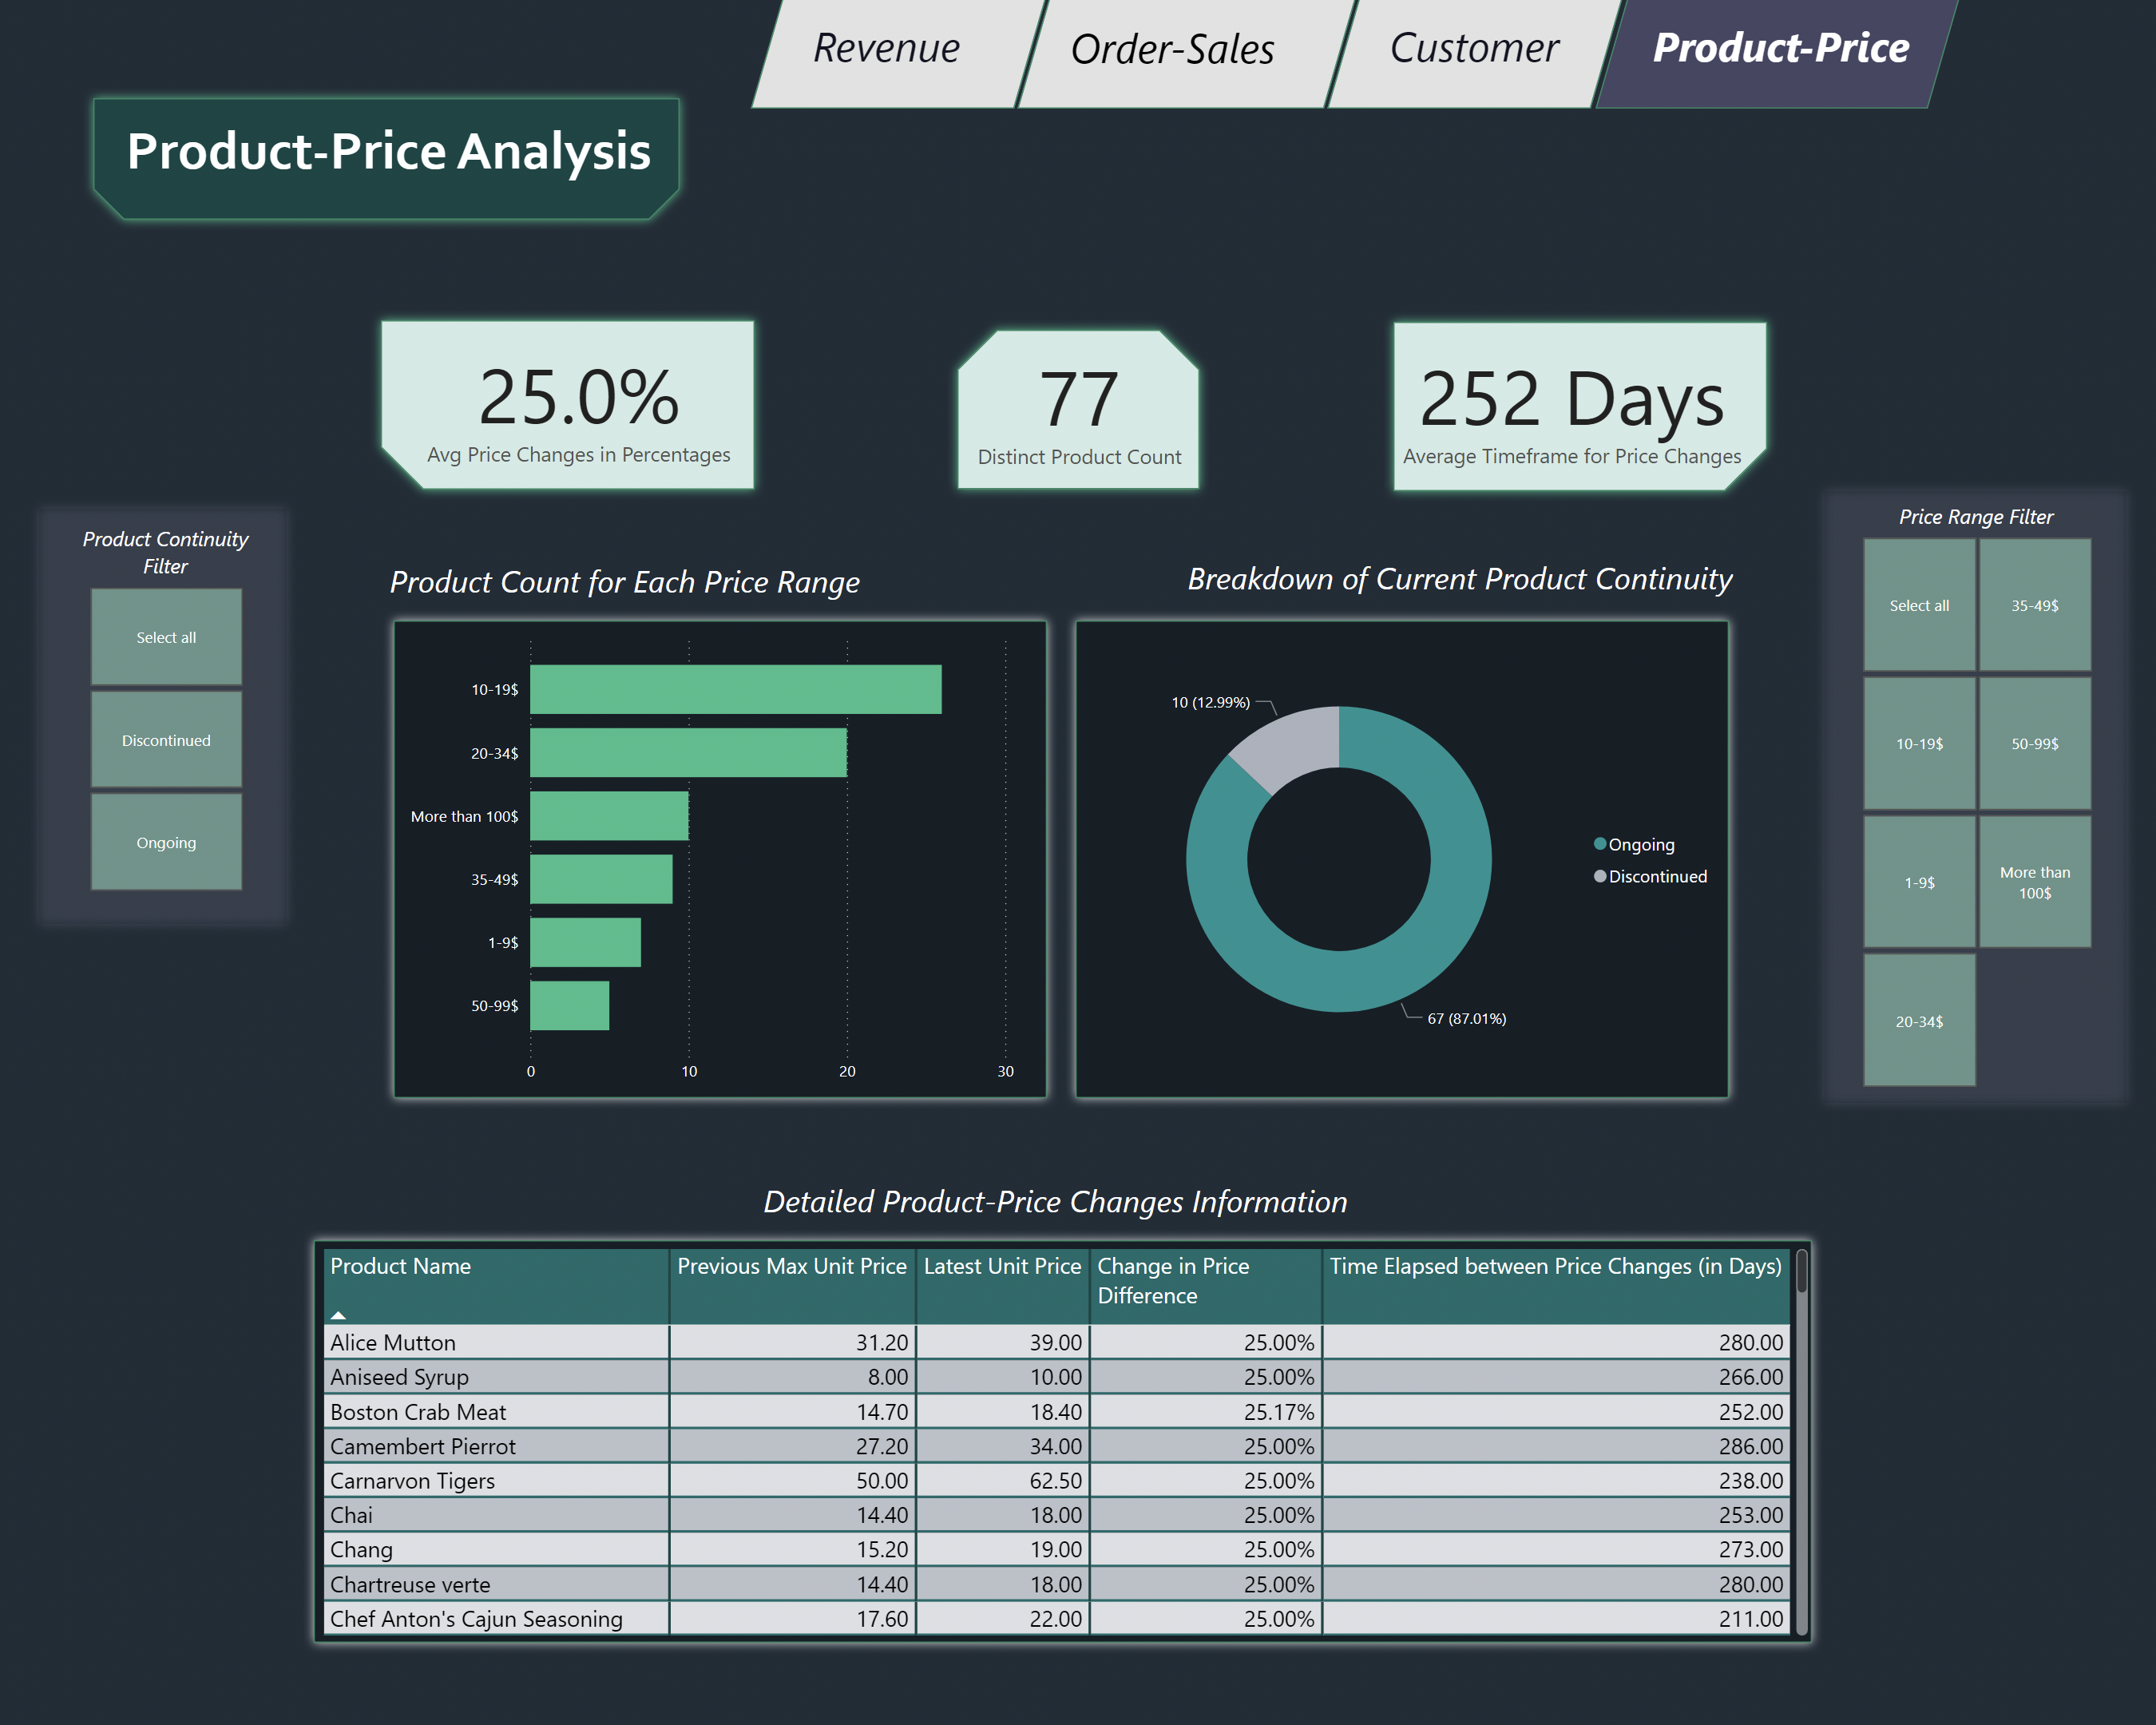

The page's visual inventory and layout, read from the dashboard file:
{"tool":"powerbi","page":{"name":"4) Product-Price Analysis","canvas":[1700,1450],"ordinal":3},"visuals":[{"type":"shape","box":[248.5,963.8,1188.8,331.2],"z":0},{"type":"shape","box":[311,478.8,527.5,390],"z":1000},{"type":"shape","box":[1431.2,377.5,252.5,495],"z":2000},{"type":"shape","box":[33.7,391.5,210,341.2],"z":3000},{"type":"shape","box":[76.2,69.7,475,111.2],"z":4000},{"type":"textbox","box":[105,87.2,435,68.8],"z":5000},{"type":"shape","box":[807.5,0,265,86.2],"z":6000},{"type":"textbox","box":[843.8,11.2,192.5,65],"z":7000},{"type":"shape","box":[1050,0,231.2,86.2],"z":8000},{"type":"textbox","box":[1093.3,10,155,65],"z":9000},{"type":"shape","box":[1260,0,285,86.2],"z":10000},{"type":"textbox","box":[1300,10,220,65],"z":11000},{"type":"shape","box":[598.8,0,231.2,86.2],"z":12000},{"type":"textbox","box":[642.5,10,133.8,63.8],"z":13000},{"type":"slicer","title":"Price Range Filter","fields":{"Values":["PP Current Price Data.price_range"]},"box":[1443.8,393.8,228.8,465],"z":14000},{"type":"slicer","title":"Product Continuity Filter","fields":{"Values":["PP Current Price Data.product_discontinued_or_not"]},"box":[56.2,411.5,168.8,293.8],"z":15000},{"type":"shape","box":[1093.8,245,308.8,148.8],"z":16000},{"type":"shape","box":[752.3,251.1,205.7,140.8],"z":17000},{"type":"shape","box":[301.2,243.8,308.8,148.8],"z":18000},{"type":"card","fields":{"Values":["DAX Measures.Price Range Counter"]},"box":[753.8,245,205,148.8],"z":19000},{"type":"card","fields":{"Values":["DAX Measures.Total Average Price Difference"]},"box":[323.8,243.8,281.2,147.5],"z":20000},{"type":"card","fields":{"Values":["DAX Measures.Total Average Timeframe"]},"box":[1093.8,245,296.2,147.5],"z":21000},{"type":"clusteredBarChart","fields":{"Y":["DAX Measures.Price Range Counter"],"Category":["PP Current Price Data.price_range"]},"box":[321,488.8,488.8,368.8],"z":22000},{"type":"textbox","box":[311,433.8,463.8,45],"z":23000},{"type":"shape","box":[844.7,478.8,527.5,390],"z":24000},{"type":"donutChart","fields":{"Category":["PP Current Price Data.product_discontinued_or_not"],"Y":["CountNonNull(PP Current Price Data.product_discontinued_or_not)"]},"box":[856.2,491.2,506.2,365],"z":25000},{"type":"textbox","box":[908.8,431.2,463.8,47.5],"z":26000},{"type":"tableEx","fields":{"Values":["PP Price Change Data.product_name","DAX Measures.Previous Max Unit Price","DAX Measures.LatestUnitPrice","DAX Measures.Price Difference","DAX Measures.Timeframe Elapsed"]},"box":[258.8,973.8,1172.5,312.5],"z":27000},{"type":"textbox","box":[603.9,918.8,477.5,45],"z":28000}]}

Visuals, with their boxes on the page's 1700x1450 design canvas (x1, y1, x2, y2). These are canvas units, not pixel positions in the 2156x1725 screenshot, which may show the page scaled, cropped or inside an application window:
shape: bbox=(248, 964, 1437, 1295)
shape: bbox=(311, 479, 838, 869)
shape: bbox=(1431, 378, 1684, 872)
shape: bbox=(34, 392, 244, 733)
shape: bbox=(76, 70, 551, 181)
textbox: bbox=(105, 87, 540, 156)
shape: bbox=(808, 0, 1072, 86)
textbox: bbox=(844, 11, 1036, 76)
shape: bbox=(1050, 0, 1281, 86)
textbox: bbox=(1093, 10, 1248, 75)
shape: bbox=(1260, 0, 1545, 86)
textbox: bbox=(1300, 10, 1520, 75)
shape: bbox=(599, 0, 830, 86)
textbox: bbox=(642, 10, 776, 74)
"Price Range Filter" slicer: bbox=(1444, 394, 1673, 859)
"Product Continuity Filter" slicer: bbox=(56, 412, 225, 705)
shape: bbox=(1094, 245, 1403, 394)
shape: bbox=(752, 251, 958, 392)
shape: bbox=(301, 244, 610, 393)
card - DAX Measures.Price Range Counter: bbox=(754, 245, 959, 394)
card - DAX Measures.Total Average Price Difference: bbox=(324, 244, 605, 391)
card - DAX Measures.Total Average Timeframe: bbox=(1094, 245, 1390, 392)
clusteredBarChart - DAX Measures.Price Range Counter x PP Current Price Data.price_range: bbox=(321, 489, 810, 858)
textbox: bbox=(311, 434, 775, 479)
shape: bbox=(845, 479, 1372, 869)
donutChart - PP Current Price Data.product_discontinued_or_not x CountNonNull(PP Current Price Data.product_discontinued_or_not): bbox=(856, 491, 1362, 856)
textbox: bbox=(909, 431, 1373, 479)
tableEx - PP Price Change Data.product_name x DAX Measures.Previous Max Unit Price: bbox=(259, 974, 1431, 1286)
textbox: bbox=(604, 919, 1081, 964)
